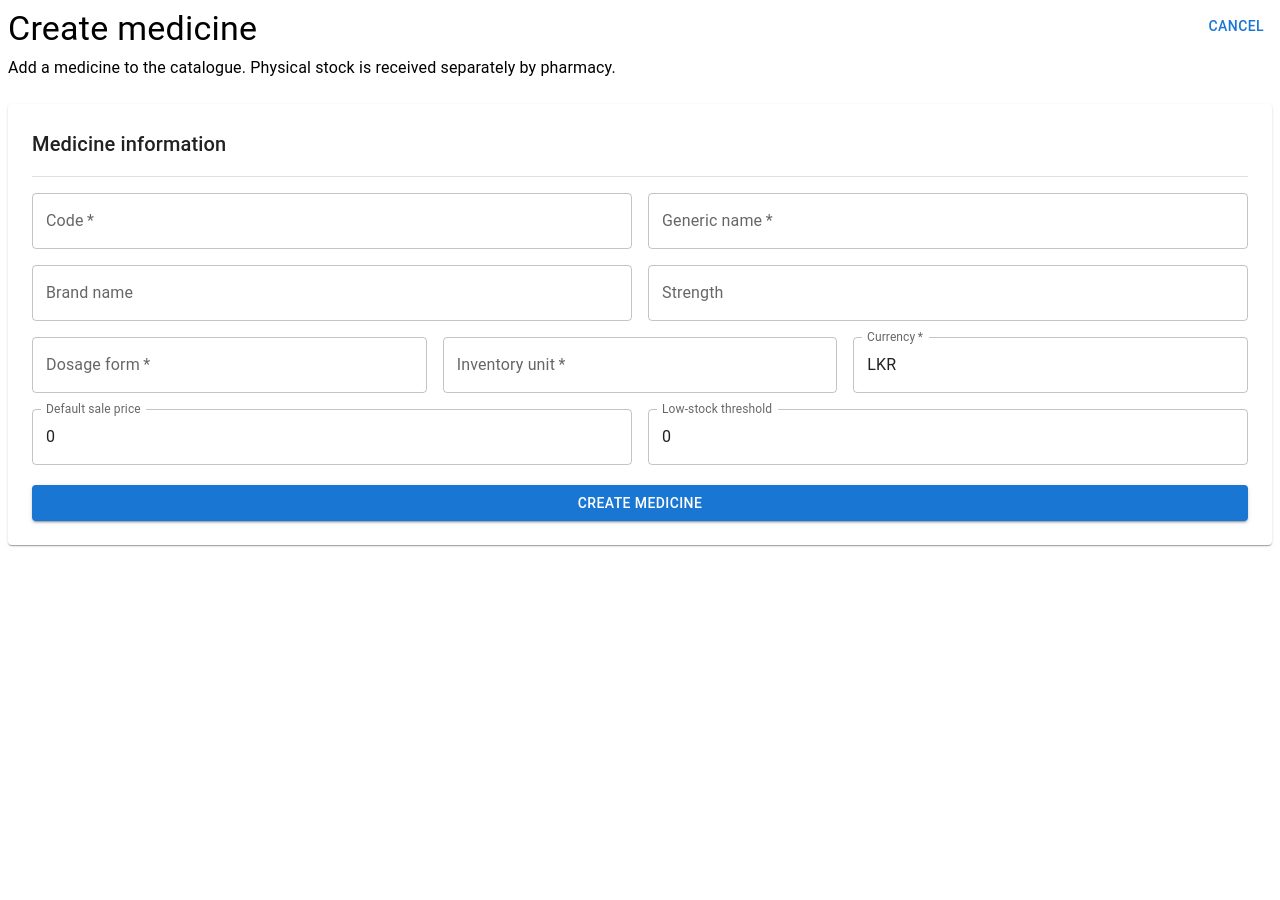
Test: medicine create and query invalidation › creates a medicine and navigates to details
The width and height of the screenshot is (1280, 900).
Type "PARA500" into the field labelled "Code *" at (332, 221), box left=32, top=193, right=632, bottom=249
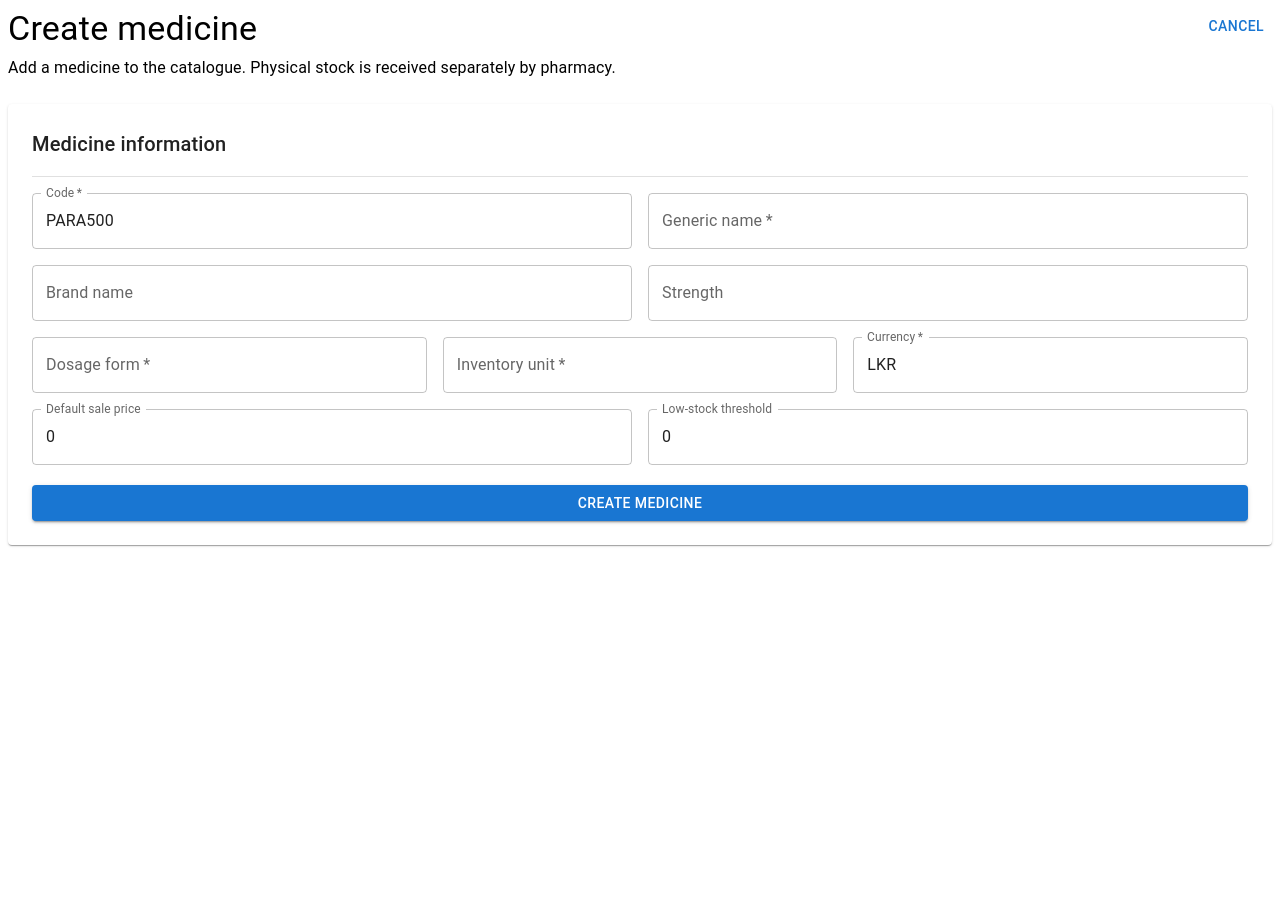
Type "Paracetamol" into the field labelled "Generic name *" at (948, 221), box left=648, top=193, right=1248, bottom=249
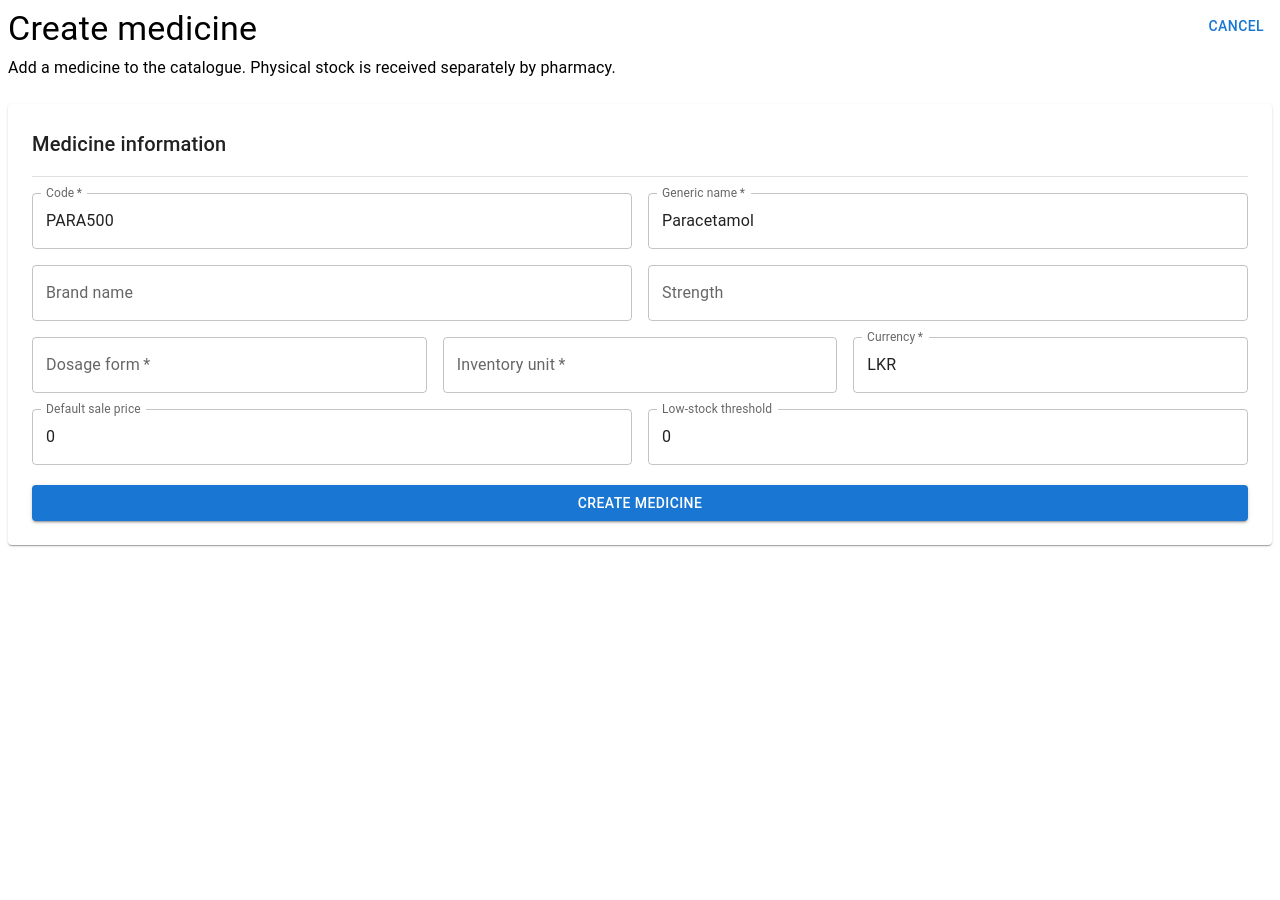
Type "tablet" into the field labelled "Dosage form *" at (229, 365), box left=32, top=337, right=427, bottom=393
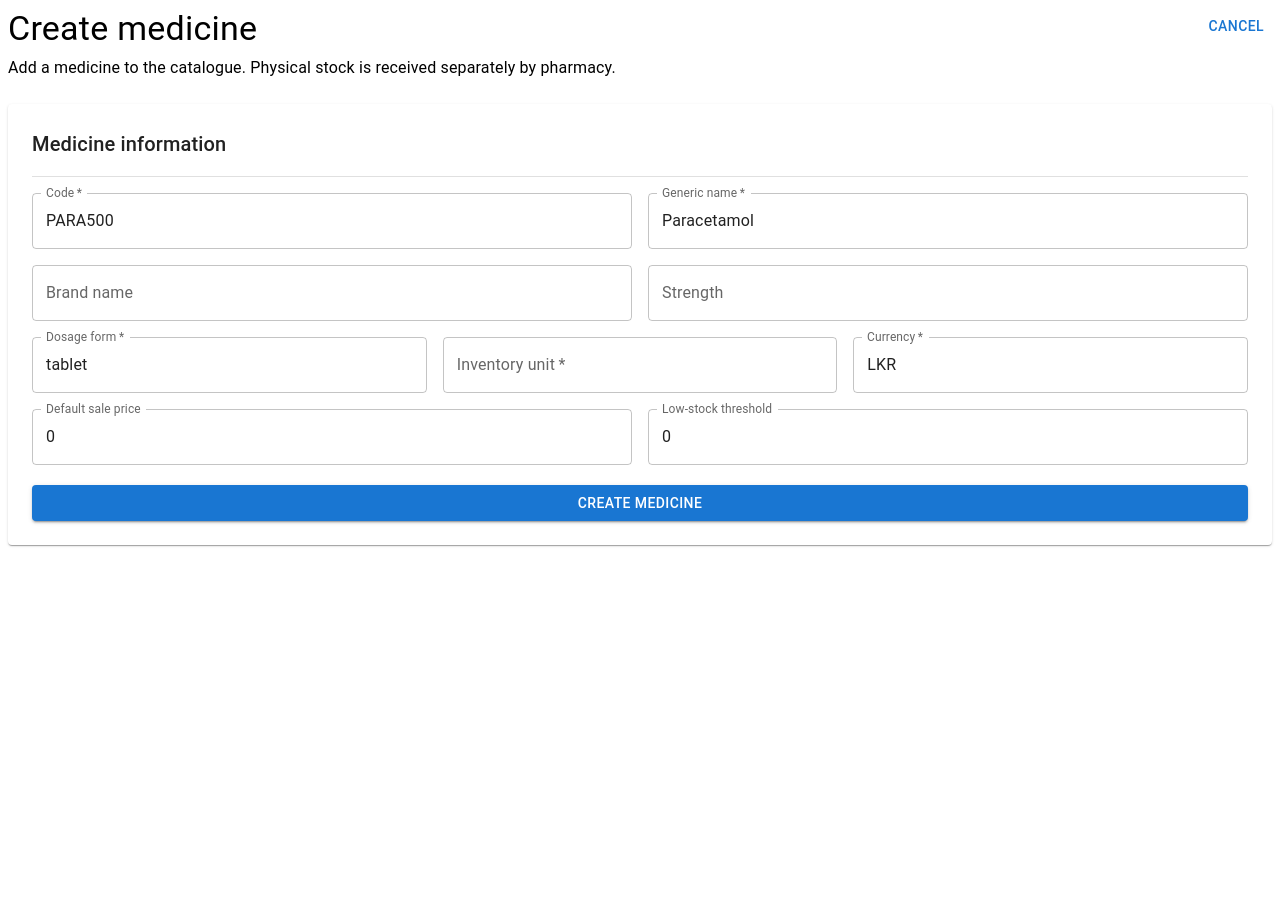
Type "tablet" into the field labelled "Inventory unit *" at (640, 365), box left=443, top=337, right=837, bottom=393
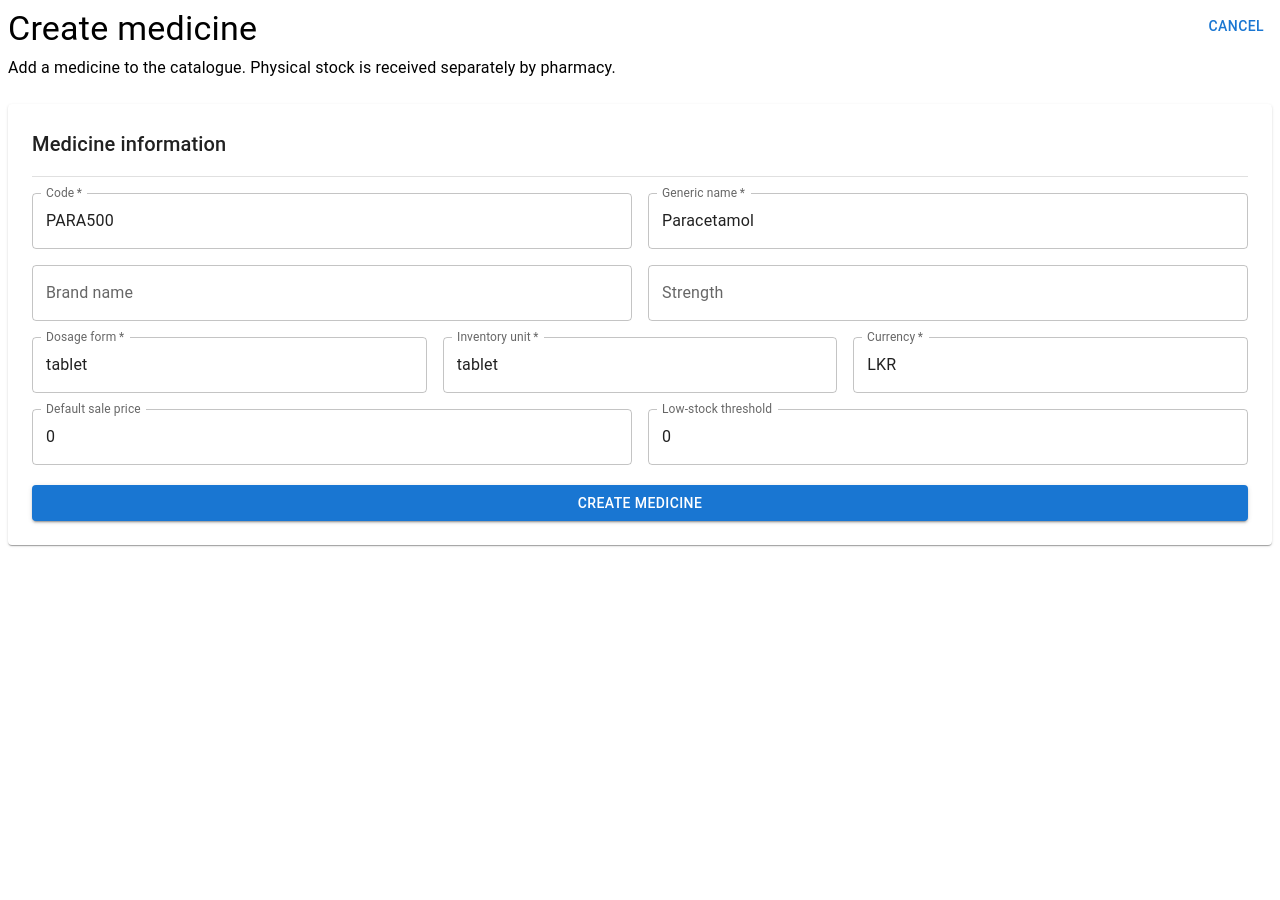
Click the button "Create medicine" at (640, 503), box left=32, top=485, right=1248, bottom=522
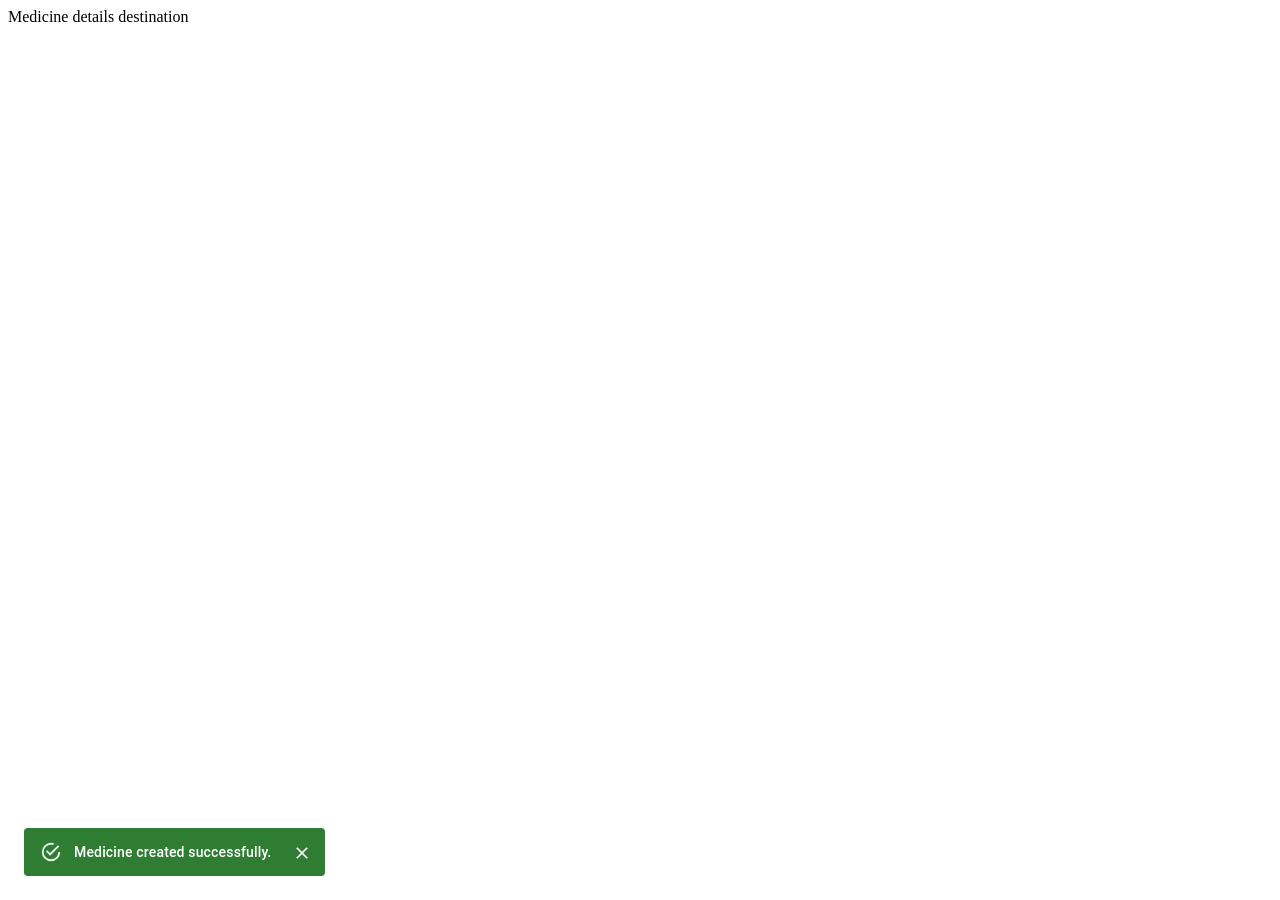
Expected: the text "Medicine details destination" is shown, left=8, top=8, right=188, bottom=25
